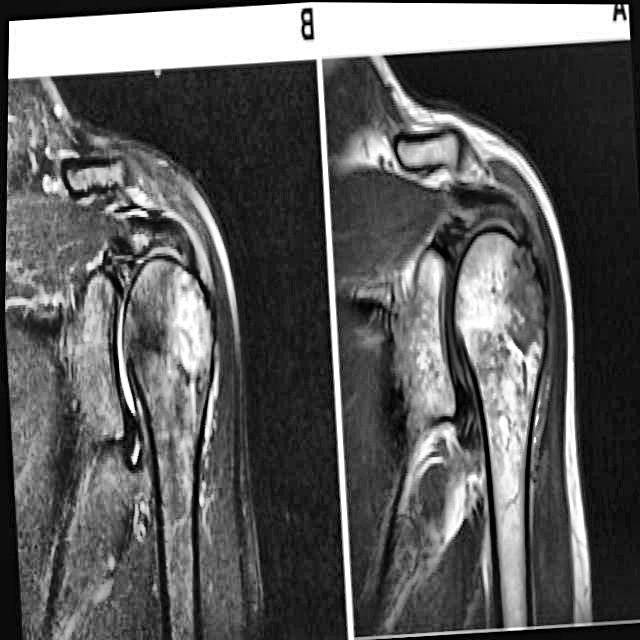Comminuted: (166, 264, 215, 384), (508, 223, 552, 338)
